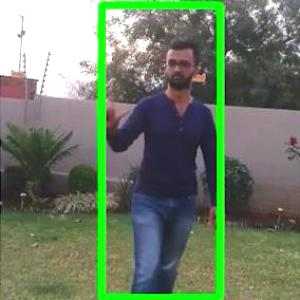land_hand: (96, 91, 135, 136)
